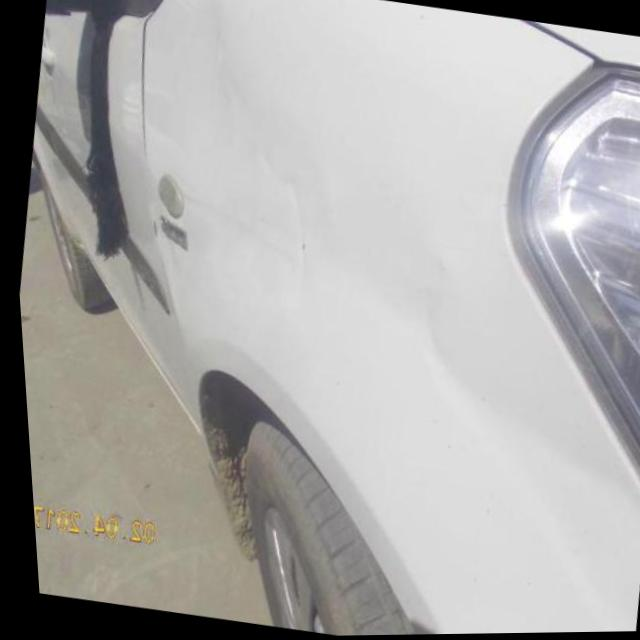Car-Damage: (385, 222, 487, 402), (179, 0, 286, 168), (254, 173, 323, 319)
